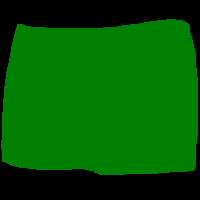mutande: (1, 19, 198, 175)
